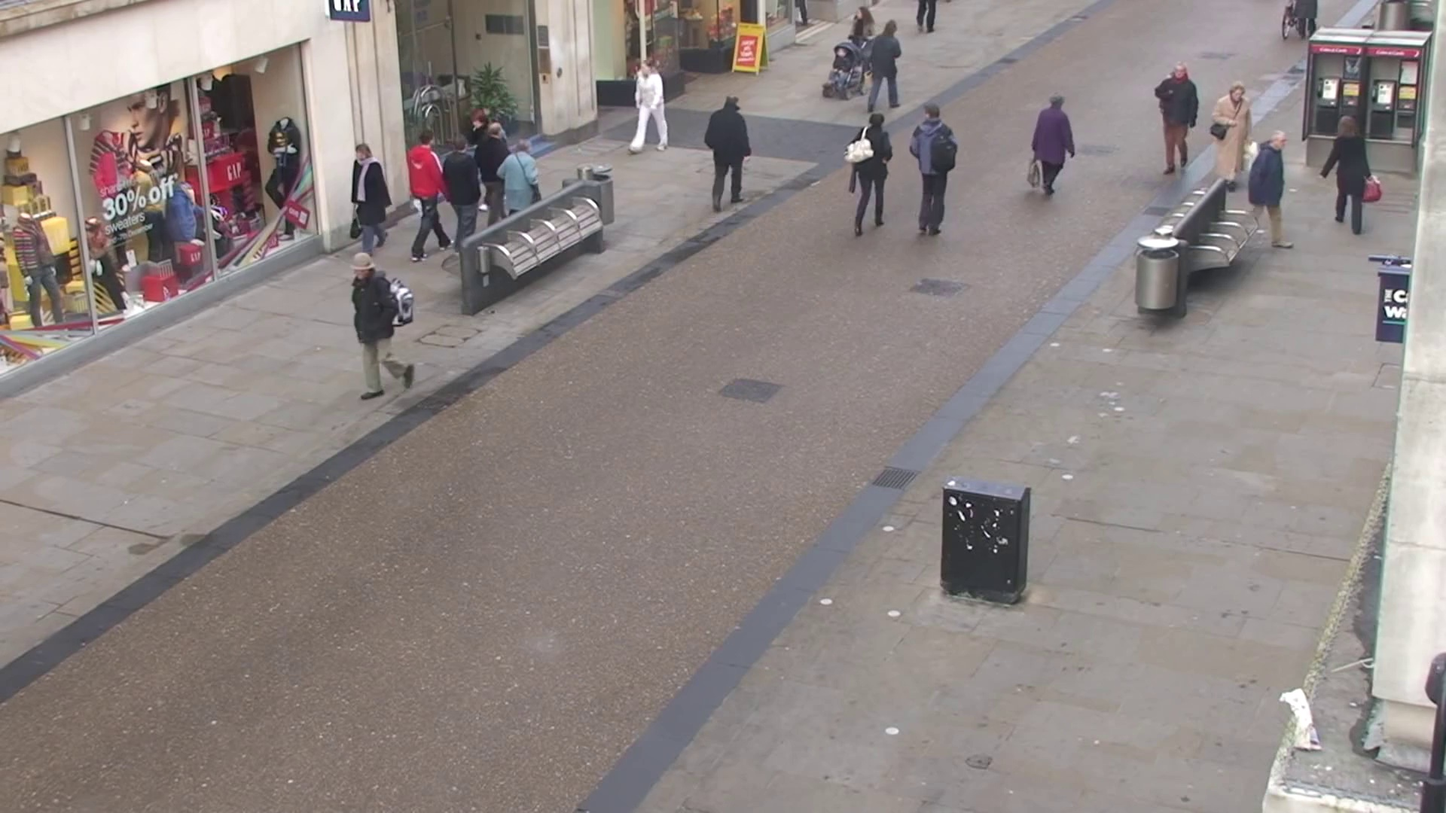person: (352, 254, 417, 398), (908, 104, 959, 238), (405, 132, 456, 262), (1325, 112, 1378, 235), (847, 112, 892, 236), (705, 95, 752, 212), (1154, 63, 1200, 178), (1247, 133, 1288, 248), (351, 141, 392, 255), (1032, 94, 1075, 199), (472, 112, 509, 223), (629, 56, 669, 153), (867, 22, 903, 114), (497, 141, 541, 216)
